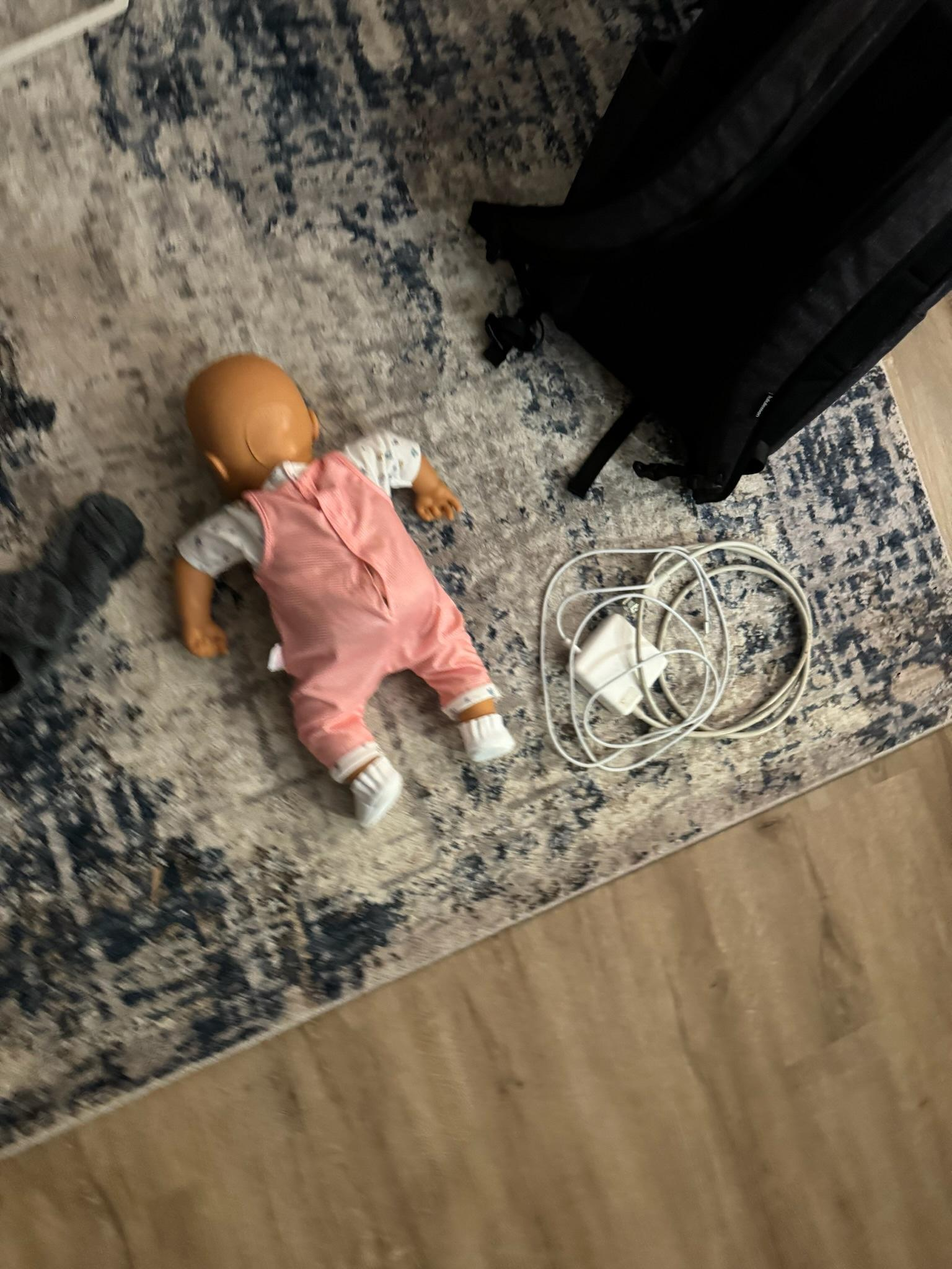baby: (155, 339, 539, 832)
